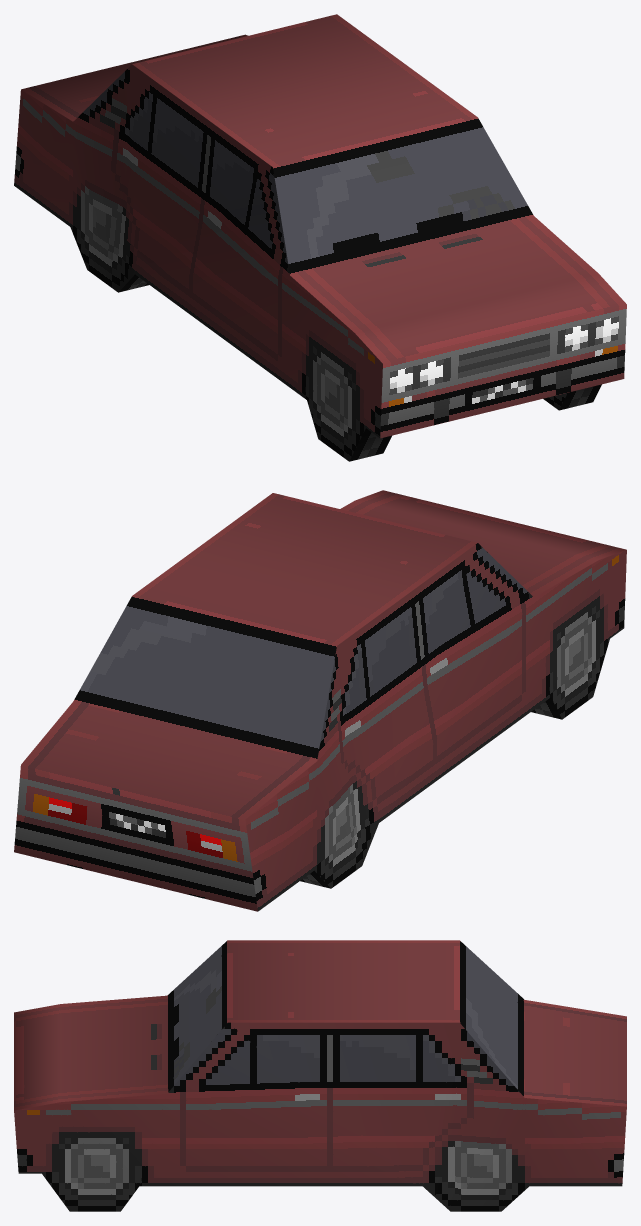
The model's file is sv-vaz2106-red.glb.
3 views of the same model, one above another, from view 1: azimuth 30°, elevation 25°; view 2: azimuth 150°, elevation 25°; view 3: azimuth 270°, elevation 25° (orthographic). The views are drawn at different scales.
Parts seen in each view (by area): view 1: sv-vaz2106-red-mesh; view 2: sv-vaz2106-red-mesh; view 3: sv-vaz2106-red-mesh.
Boxes of the visible parts, box(x1,y1,x2,y2) form: sv-vaz2106-red-mesh: box(14, 14, 626, 461); sv-vaz2106-red-mesh: box(14, 490, 626, 911); sv-vaz2106-red-mesh: box(14, 940, 626, 1211).
Size of the model in its own units: 50 by 43 by 132.
Materials: 1 (1 with a texture image).
